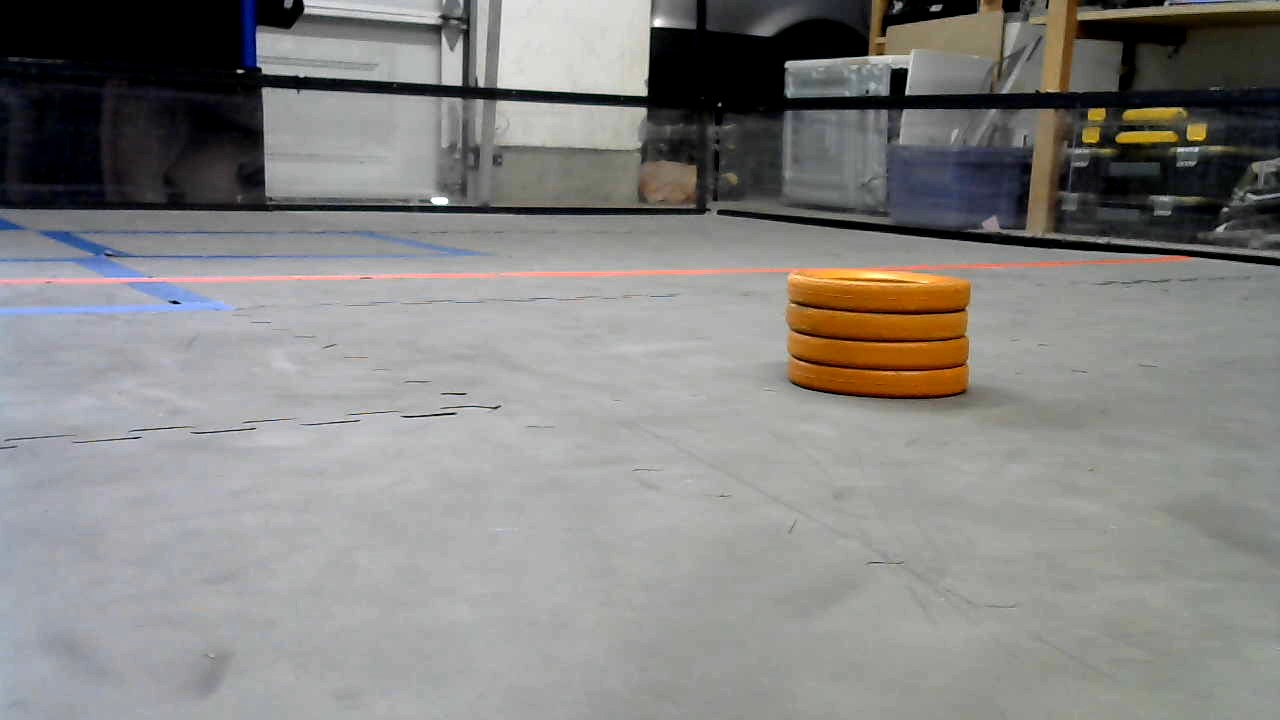FourStack: (785, 269, 971, 398)
